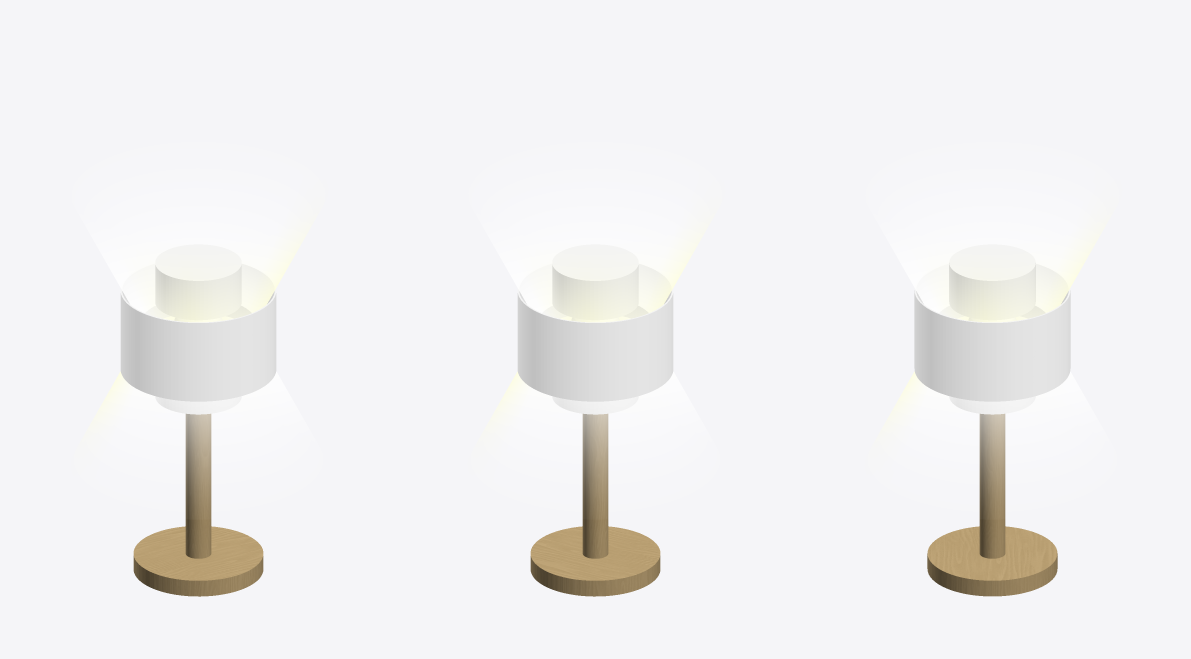
The model's file is WHITE_ON.glb.
The picture shows the model from 3 angles, left to right: view 1: azimuth 30°, elevation 25°; view 2: azimuth 150°, elevation 25°; view 3: azimuth 270°, elevation 25°; orthographic projection.
Visible parts, largest first — view 1: LIGHT_UP, LIGHT_DOWN, SHELL, BASE, INNER_TOP, INNER_BOT; view 2: LIGHT_UP, LIGHT_DOWN, SHELL, BASE, INNER_TOP, INNER_BOT; view 3: LIGHT_UP, LIGHT_DOWN, SHELL, BASE, INNER_TOP, INNER_BOT.
Part boxes in pixels (x1,y1,x2,y2): LIGHT_UP: (79,168,317,322); LIGHT_DOWN: (82,316,314,484); SHELL: (120,263,276,401); BASE: (133,414,263,596); INNER_TOP: (155,244,241,319); INNER_BOT: (155,396,241,414); LIGHT_UP: (476,168,714,322); LIGHT_DOWN: (479,316,711,484); SHELL: (517,263,673,401); BASE: (530,414,660,596); INNER_TOP: (552,244,638,319); INNER_BOT: (552,396,638,414); LIGHT_UP: (873,169,1111,322); LIGHT_DOWN: (876,316,1108,484); SHELL: (914,263,1070,401); BASE: (927,414,1057,596); INNER_TOP: (949,244,1035,319); INNER_BOT: (949,396,1035,414).
Bounding box in the file's own units: 0.4256 × 0.6074 × 0.4256.
4 materials, 4 textured.
